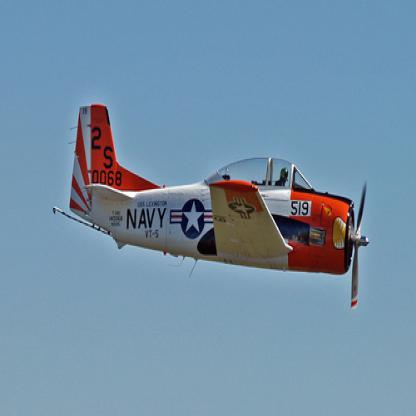aeroplane: (47, 104, 370, 312)
